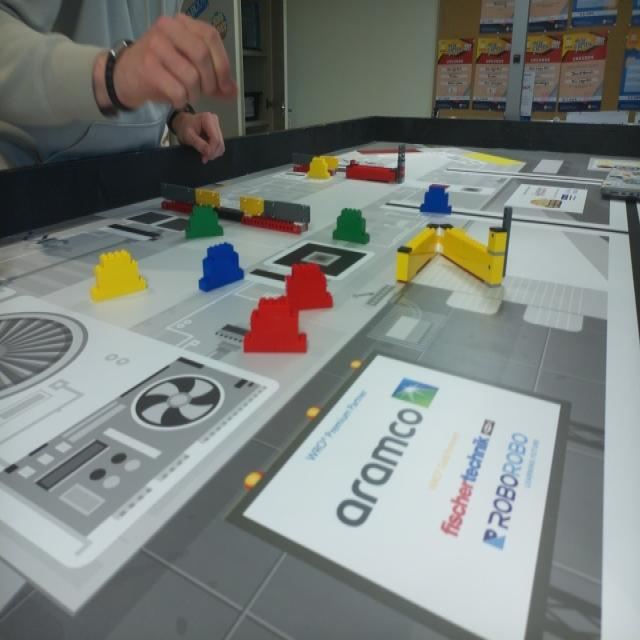blau: (198, 240, 244, 290), (421, 186, 450, 213)
gruen: (186, 203, 224, 240), (334, 210, 370, 243)
rot: (247, 302, 307, 353), (283, 264, 335, 308)
yellow: (90, 248, 146, 304), (309, 157, 328, 176)
